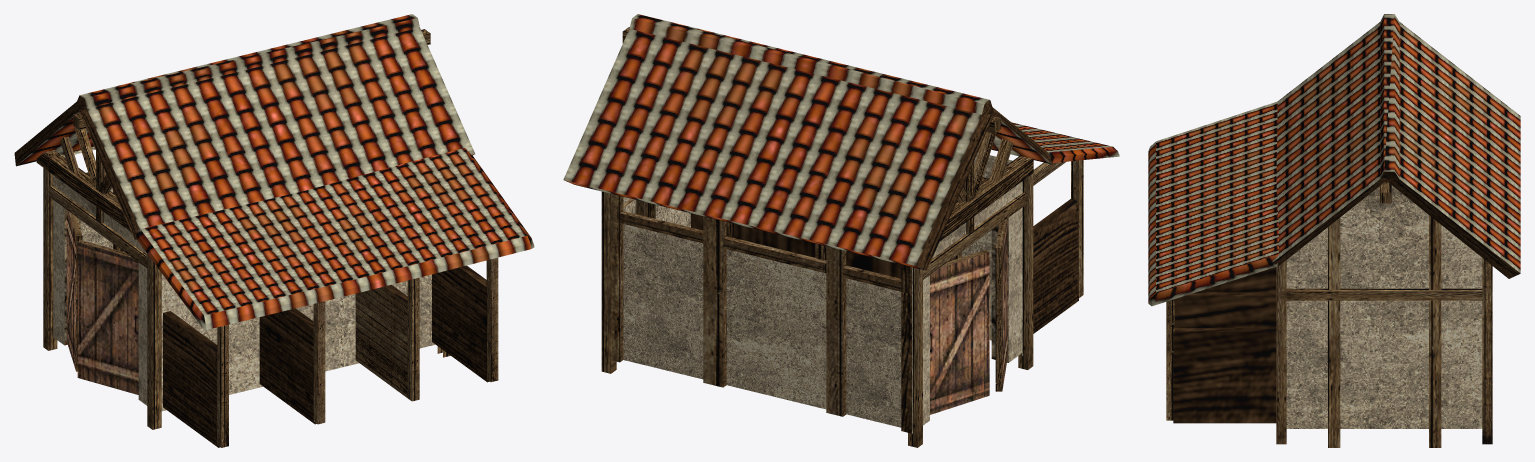
The model's file is stable.dae.
3 renders of one model, left to right at view 1: azimuth 30°, elevation 25°; view 2: azimuth 150°, elevation 25°; view 3: azimuth 270°, elevation 25°, orthographic. The views are drawn at different scales.
Visible parts, largest first — view 1: stable; view 2: stable; view 3: stable.
Part boxes in pixels (x1,y1,x2,y2): stable: (14,14,534,447); stable: (563,14,1119,447); stable: (1148,14,1520,447).
Size of the model in its own units: 20 by 18.85 by 16.08.
